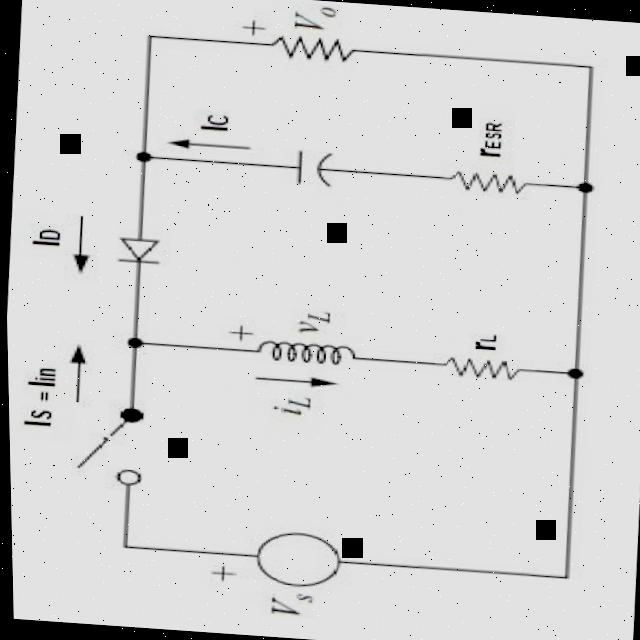capacitor: (282, 140, 344, 196)
diode: (104, 221, 171, 282)
inductor: (236, 328, 368, 374)
node: (121, 140, 164, 172), (111, 328, 150, 358), (563, 173, 601, 199), (555, 360, 592, 386)
resistor: (240, 26, 367, 75), (424, 346, 525, 394), (434, 166, 531, 206)
source: (235, 518, 352, 598)
switch: (59, 391, 171, 494)
